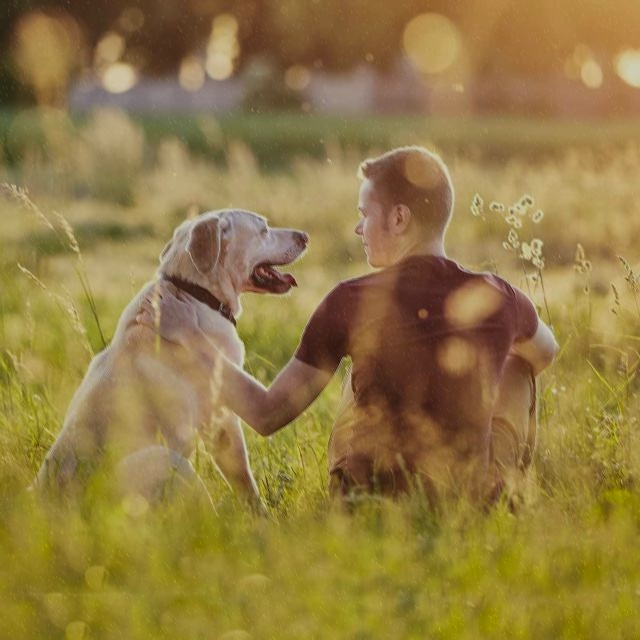dog: (81, 181, 291, 528)
person: (318, 132, 554, 529)
